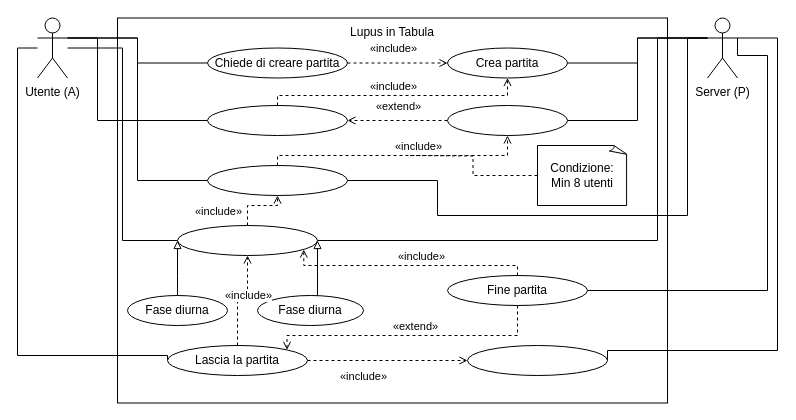
This 796x420 diagram has some shape labels left out. Each missing label, with the centre of its shape:
Avvia partita: point (277, 180)
Chiede di entrare in partita: point (277, 120)
Disconnette utente: point (537, 360)
Entra in una partita: point (507, 120)
Gioco: point (247, 240)
